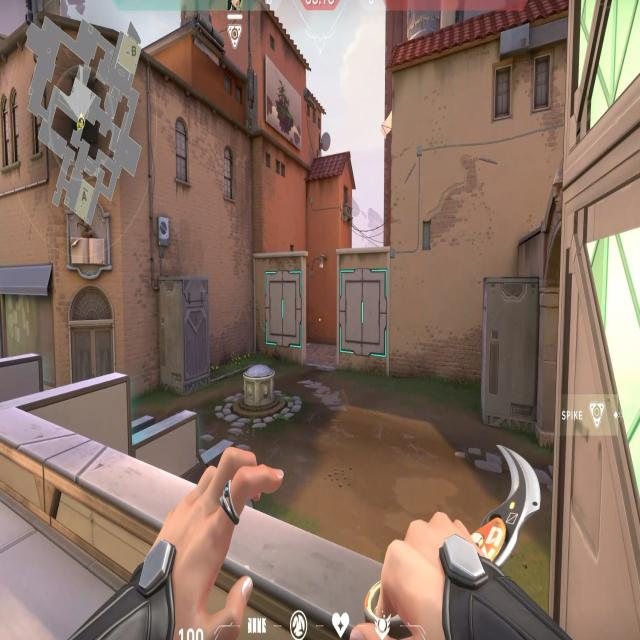Mid_Wall: (338, 263, 389, 368), (264, 264, 304, 358)
